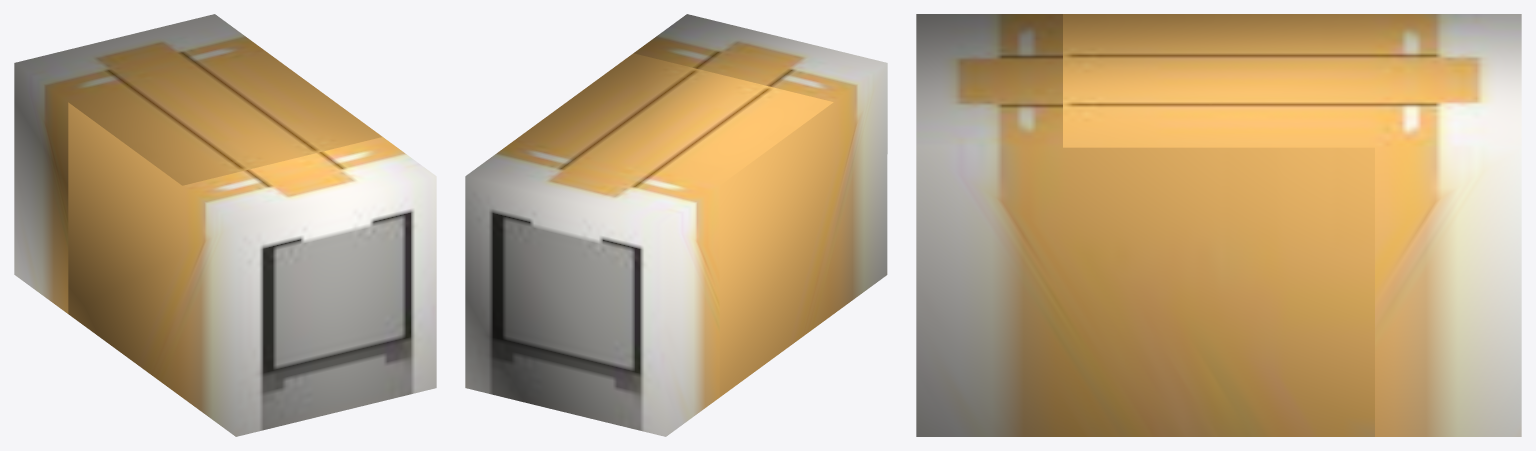
3 renders of one model, left to right at view 1: azimuth 30°, elevation 25°; view 2: azimuth 150°, elevation 25°; view 3: azimuth 270°, elevation 25°, orthographic. The views are drawn at different scales.
Parts seen in each view (by area): view 1: inserter-1-lod2; view 2: inserter-1-lod2; view 3: inserter-1-lod2.
Boxes of the visible parts, x1,y1,x2,y2 form: inserter-1-lod2: (14, 14, 436, 436); inserter-1-lod2: (465, 14, 887, 436); inserter-1-lod2: (916, 14, 1521, 436).
Size of the model in its own units: 0.99 by 1 by 1.9.
2 materials, 2 textured.
